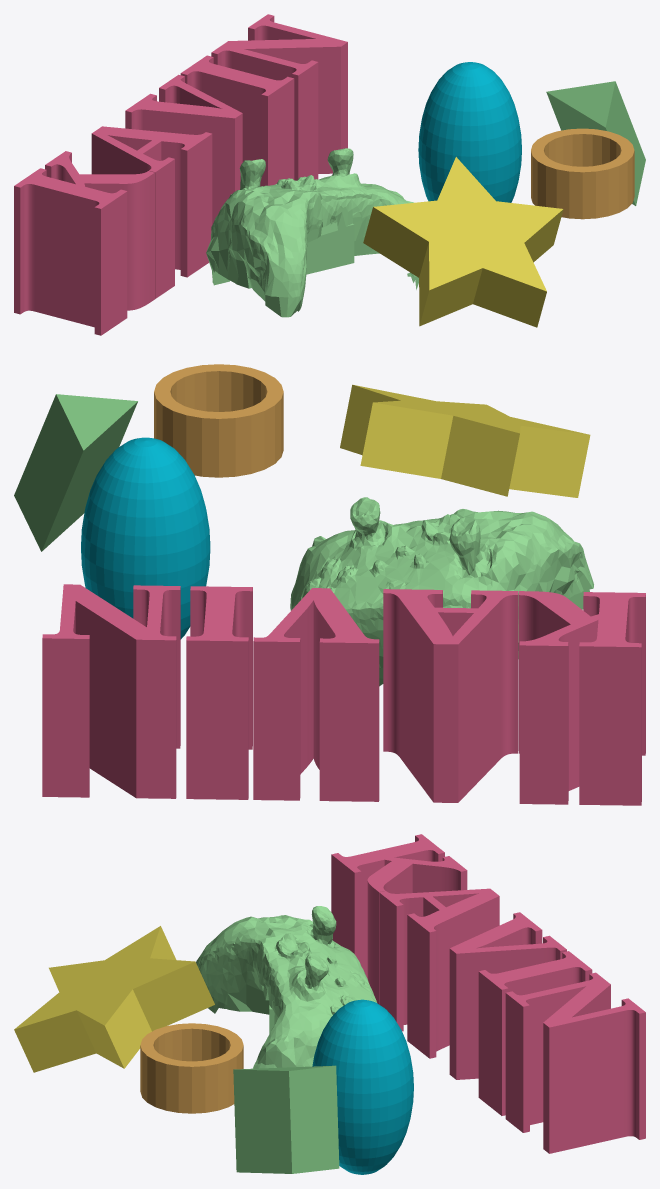
File: xbox-ar.glb
The picture shows the model from 3 angles, top to bottom: view 1: azimuth 30°, elevation 25°; view 2: azimuth 150°, elevation 25°; view 3: azimuth 270°, elevation 25°; orthographic projection. The views are drawn at different scales.
Parts seen in each view (by area): view 1: Mesh_Mesh_head_geo.001_lambert2SG.001; view 2: Mesh_Mesh_head_geo.001_lambert2SG.001; view 3: Mesh_Mesh_head_geo.001_lambert2SG.001.
Boxes of the visible parts, x1,y1,x2,y2 form: Mesh_Mesh_head_geo.001_lambert2SG.001: [14, 14, 645, 335]; Mesh_Mesh_head_geo.001_lambert2SG.001: [14, 364, 645, 805]; Mesh_Mesh_head_geo.001_lambert2SG.001: [14, 834, 645, 1174].
Bounding box in the file's own units: 126 × 39.22 × 122.
